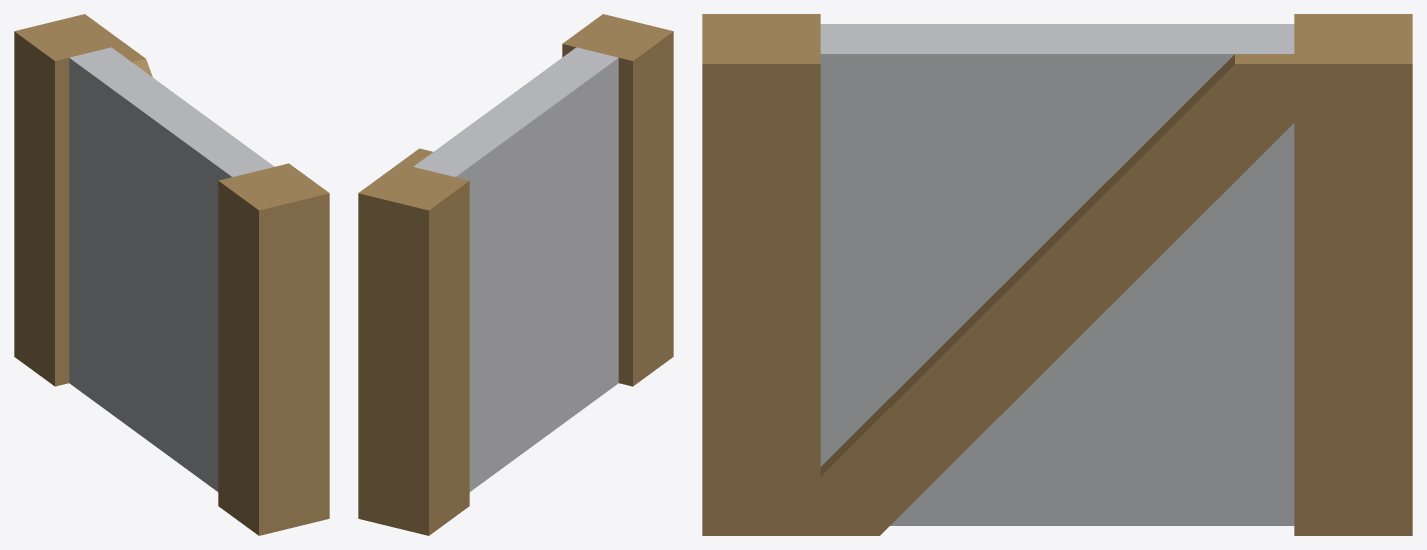
The model's file is Wood_Wall_Cross_01.obj.
The picture shows the model from 3 angles, left to right: view 1: azimuth 30°, elevation 25°; view 2: azimuth 150°, elevation 25°; view 3: azimuth 270°, elevation 25°; orthographic projection. The views are drawn at different scales.
Visible parts, largest first — view 1: Mesh1_Wood_Wall_Cross_Model; view 2: Mesh1_Wood_Wall_Cross_Model; view 3: Mesh1_Wood_Wall_Cross_Model.
Boxes of the visible parts, bbox=[...] form: Mesh1_Wood_Wall_Cross_Model: bbox=[14, 14, 329, 535]; Mesh1_Wood_Wall_Cross_Model: bbox=[358, 14, 673, 535]; Mesh1_Wood_Wall_Cross_Model: bbox=[702, 14, 1412, 535].
Size of the model in its own units: 0.5 by 2.2 by 3.
